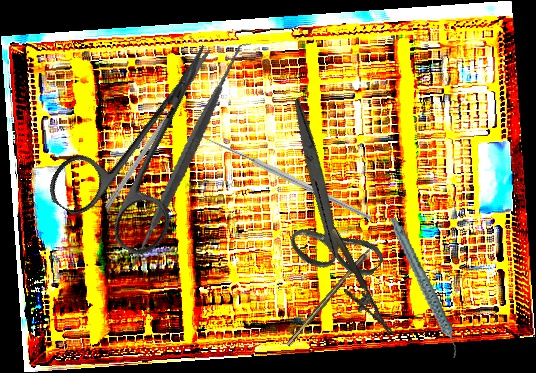Chopper: (103, 93, 192, 214)
Handpiece: (388, 210, 460, 366)
Hook Surgical: (186, 77, 373, 280), (285, 238, 381, 347)
Iris Scissors: (41, 15, 264, 264), (218, 95, 430, 302)
Needle Holder: (316, 227, 394, 345)
Spatula Surgical: (73, 42, 298, 274)
